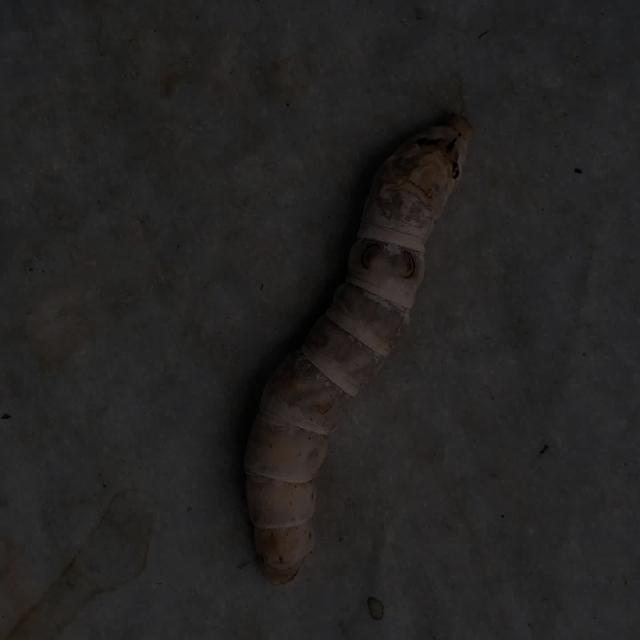Grasserie: (219, 90, 485, 593)
